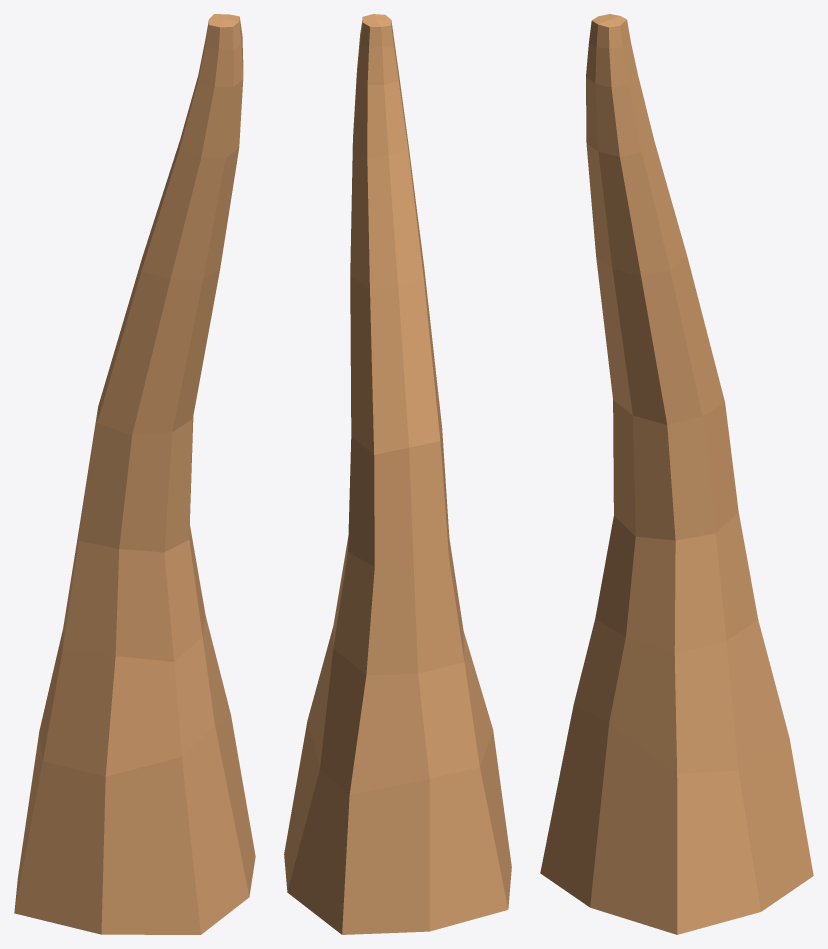
File: tree-lv0.fbx
The picture shows the model from 3 angles, left to right: view 1: azimuth 30°, elevation 25°; view 2: azimuth 150°, elevation 25°; view 3: azimuth 270°, elevation 25°; orthographic projection. The views are drawn at different scales.
Visible parts, largest first — view 1: Cube.002; view 2: Cube.002; view 3: Cube.002.
Boxes of the visible parts, x1=… form: Cube.002: x1=14, y1=14, x2=255, y2=934; Cube.002: x1=284, y1=14, x2=511, y2=934; Cube.002: x1=540, y1=14, x2=813, y2=934.
Bounding box in the file's own units: 121 × 425 × 119.
